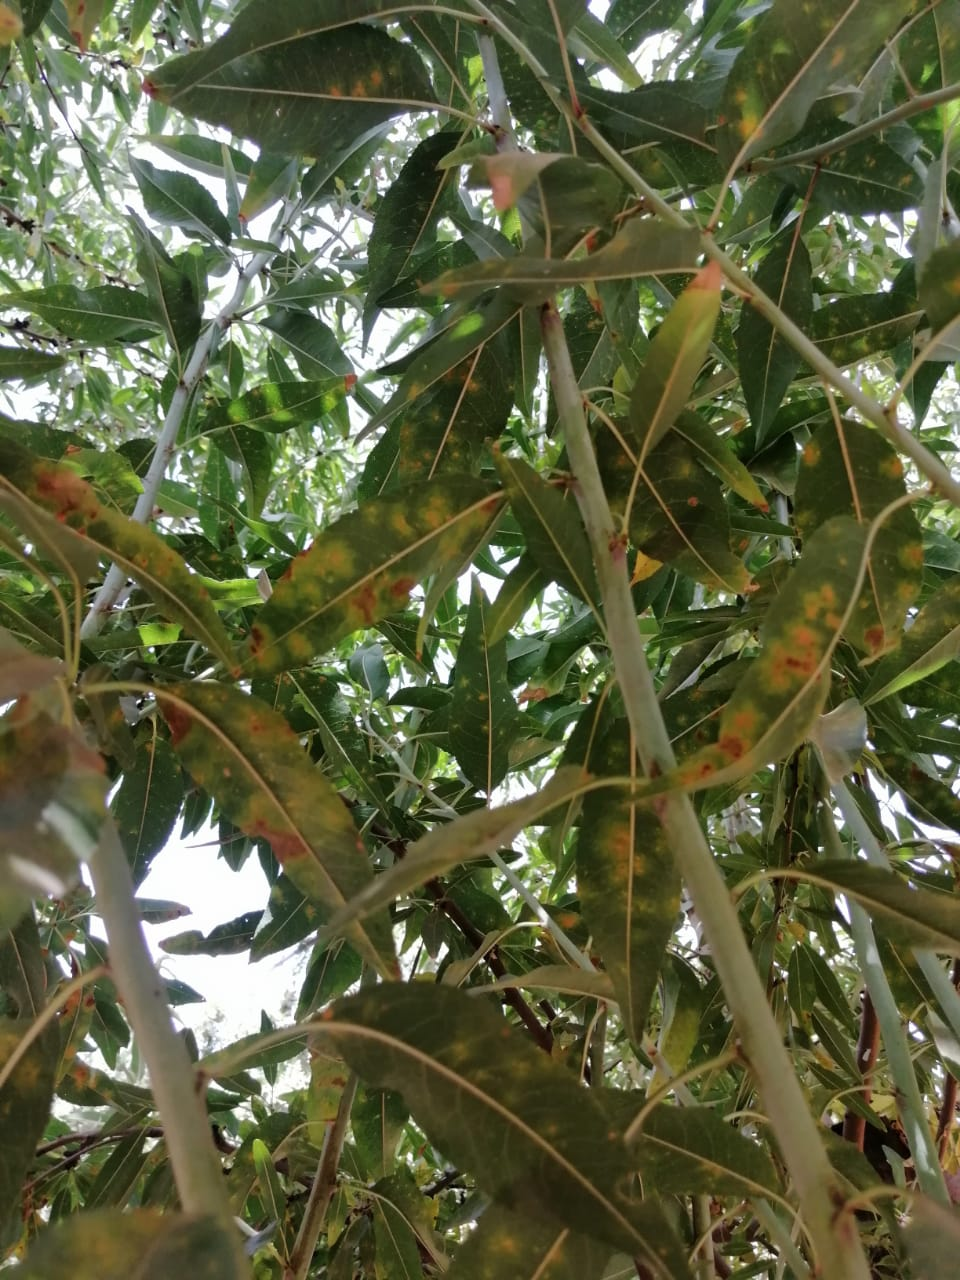polystigma: (533, 692, 832, 959), (319, 619, 432, 888), (30, 114, 140, 348)
